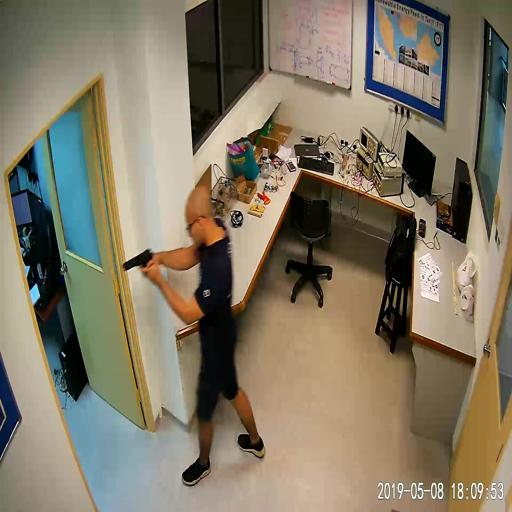pistol: (121, 247, 164, 283)
